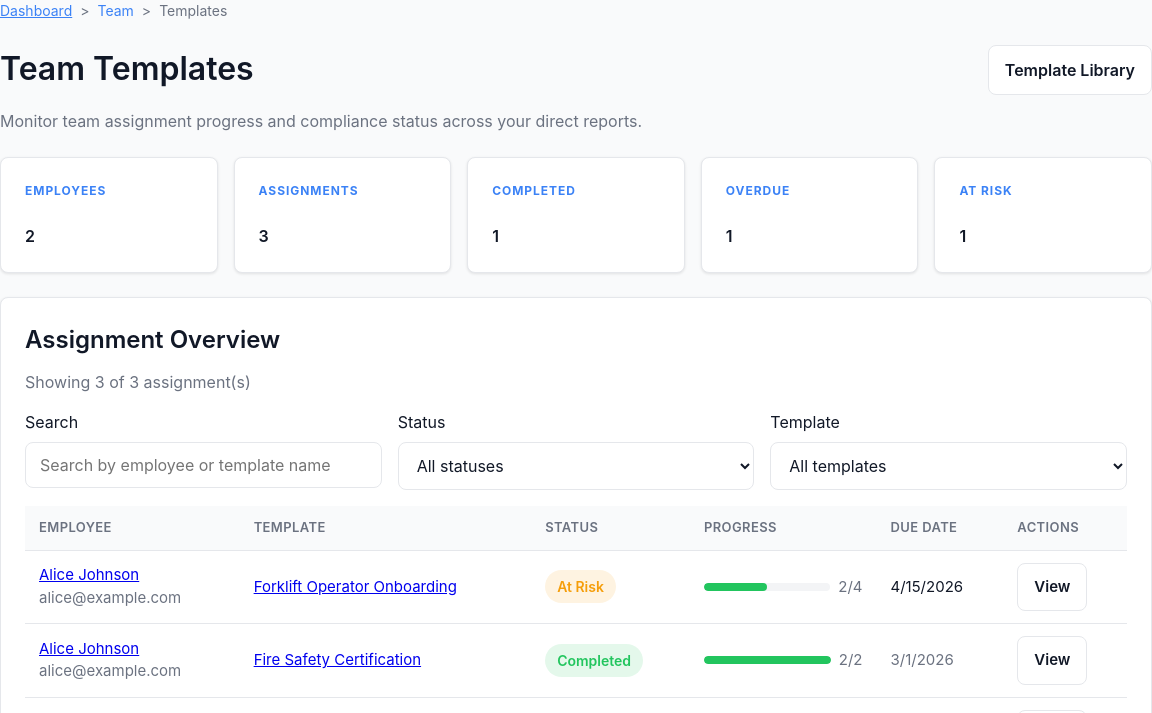
TeamTemplatesPage › shows empty state when no assignments match filters
Step 1. Type "nonexistent" into the field with placeholder "Search by employee or template name" → (203, 465), box [25,442,382,488]
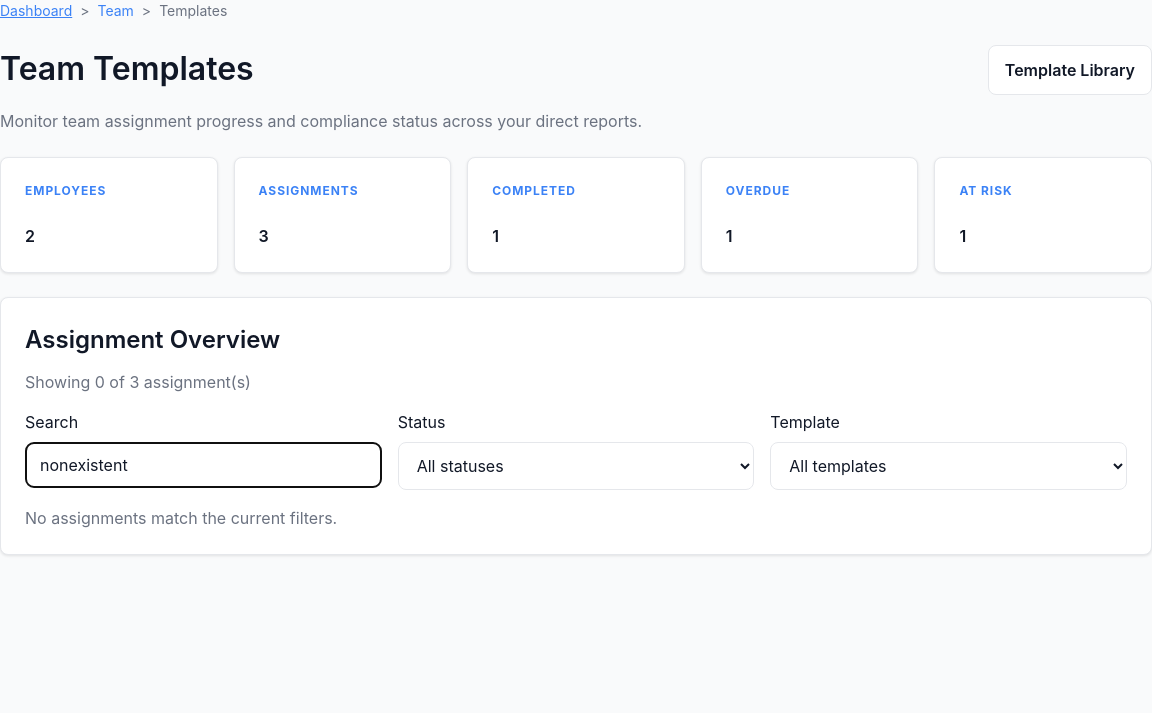
Check: the text "No assignments match the current filters." is shown, box [25,508,337,528]
